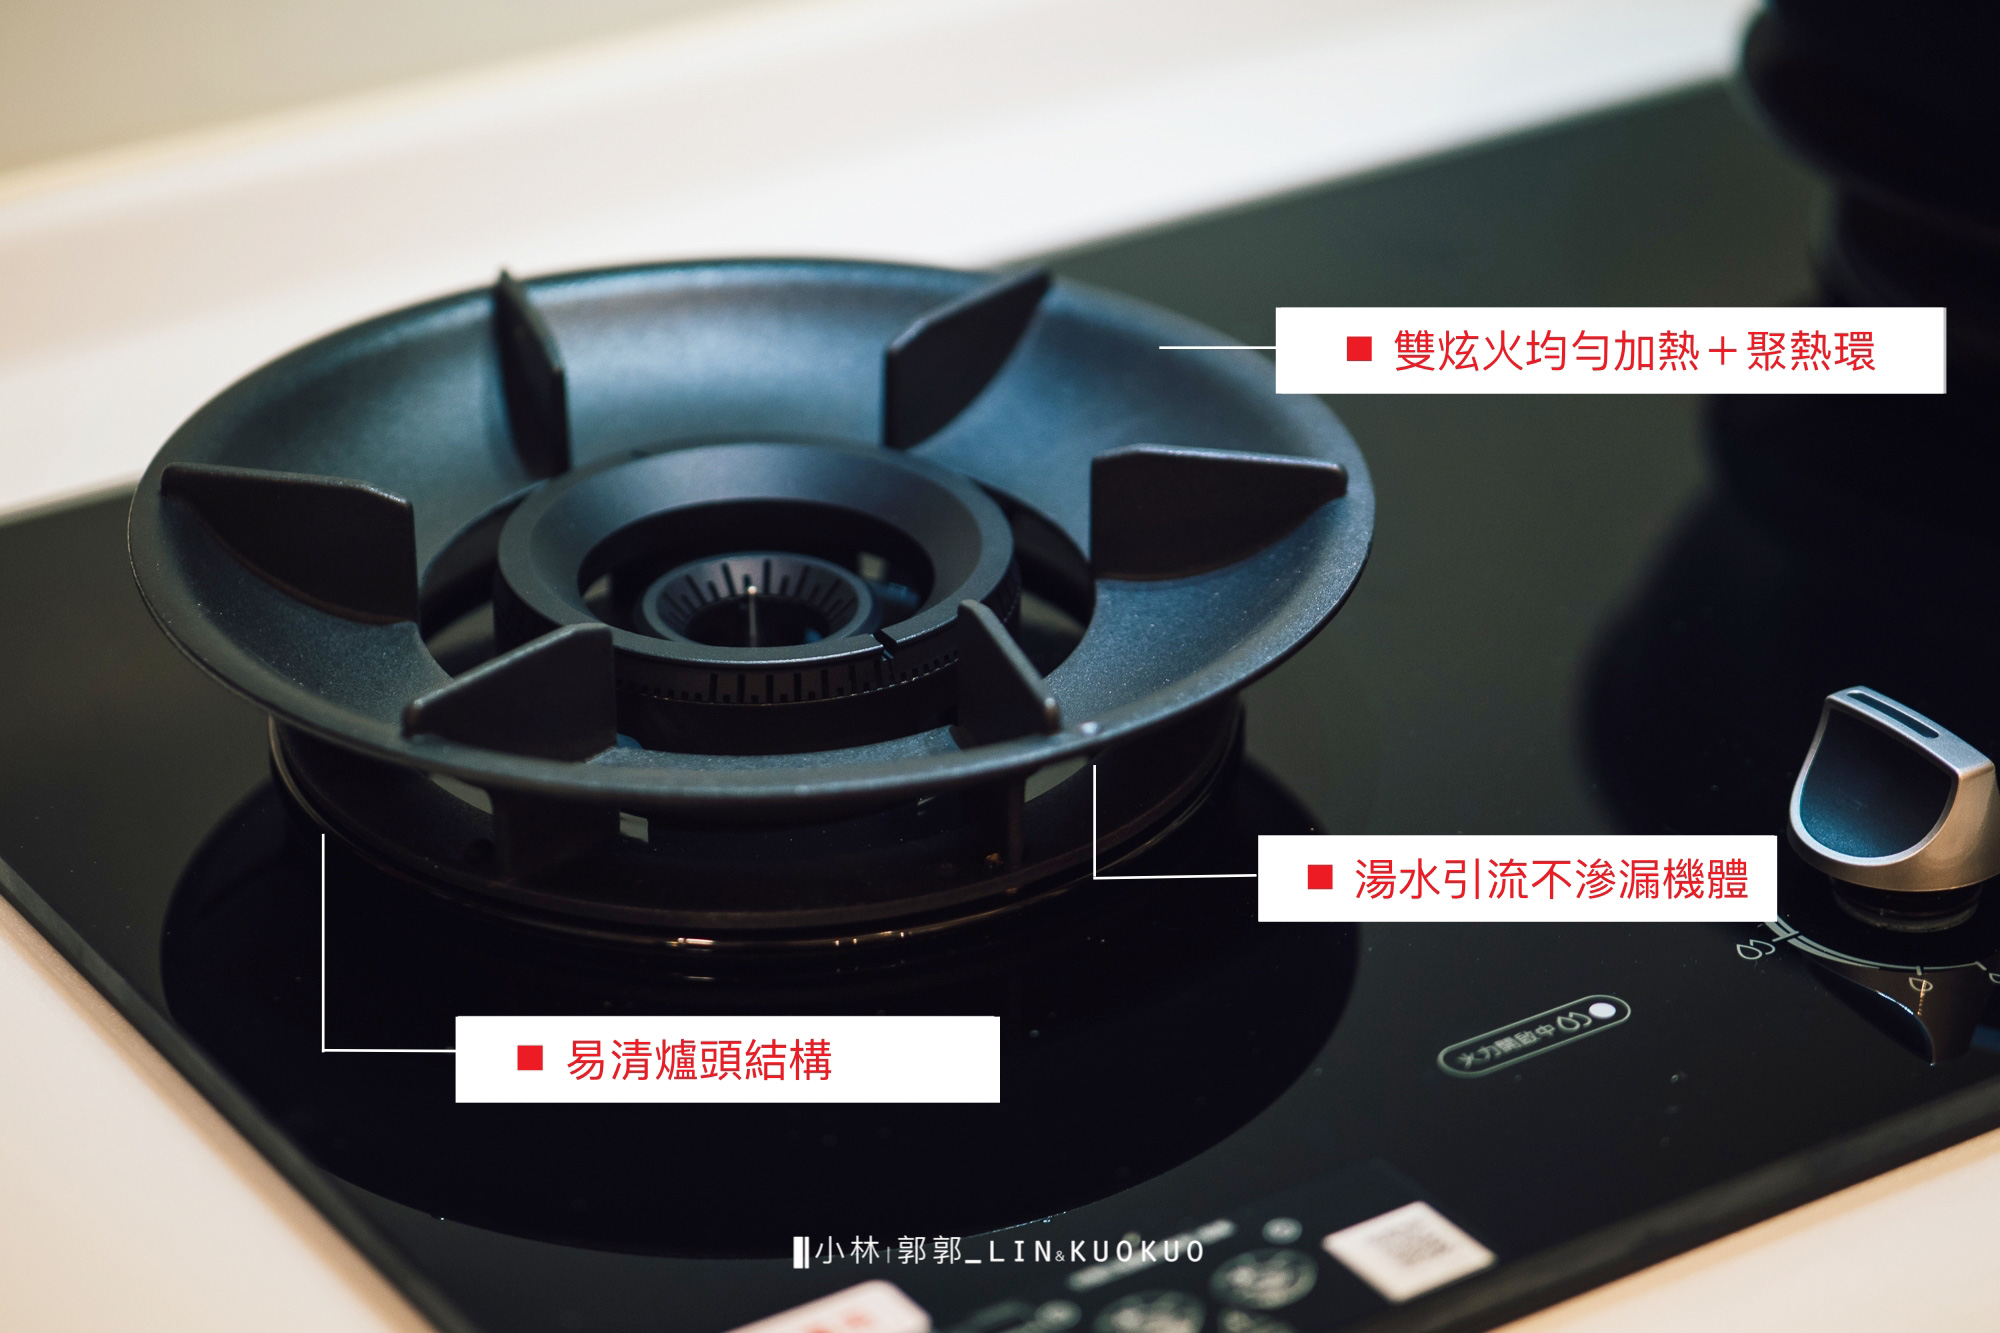gasoven: (1, 45, 1999, 1326)
